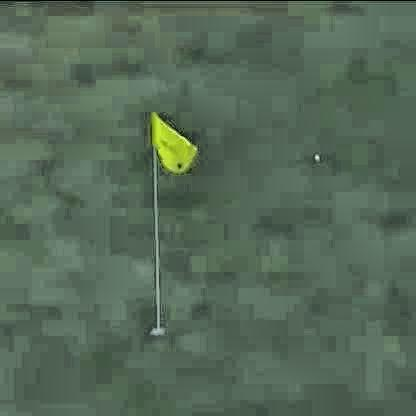golfball: (310, 151, 317, 158)
